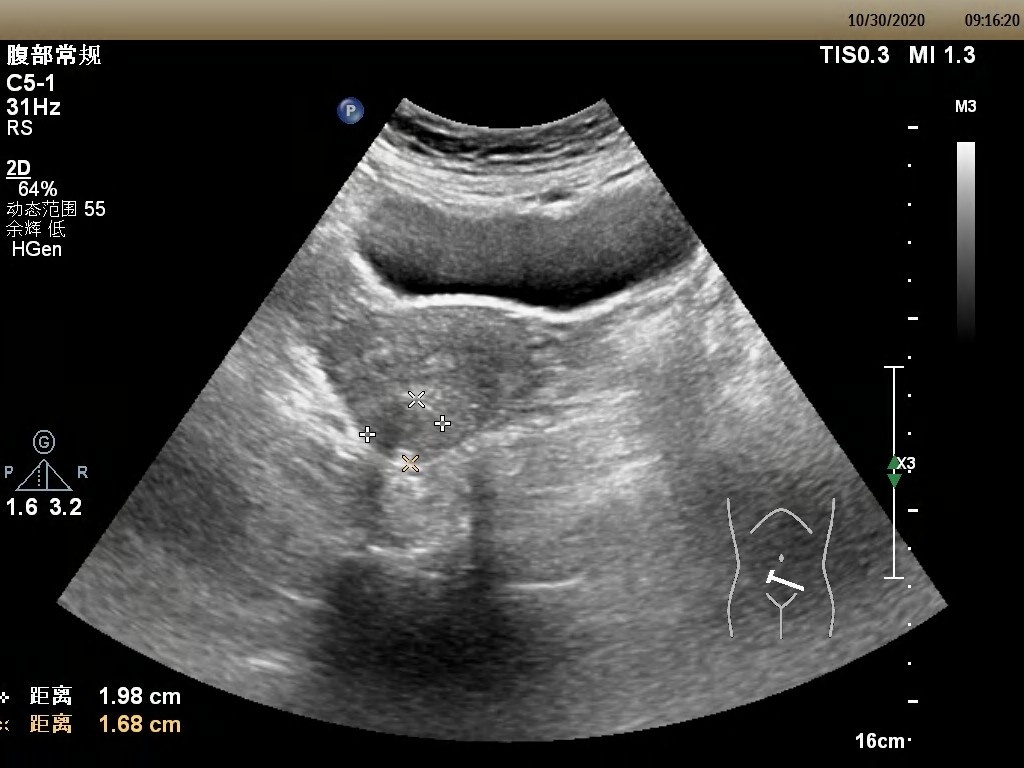肌瘤: (367, 400, 444, 463)
